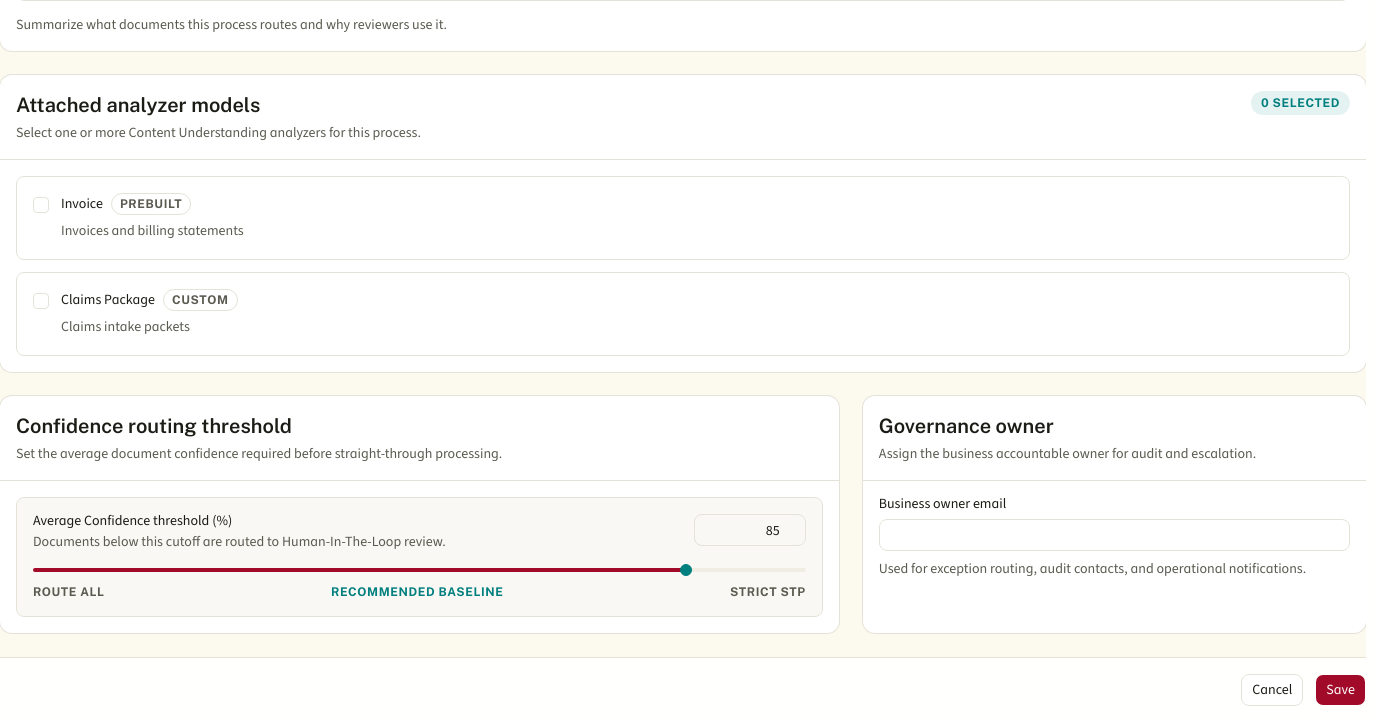
Test: ProcessForm › validates threshold bounds
(page scrolled)
Check: the text "Invoice" is shown, box [61,194,103,214]
Replace the text in the number field labelled "Average Confidence threshold (%)" with "101" at (750, 530), box [694,514,806,546]
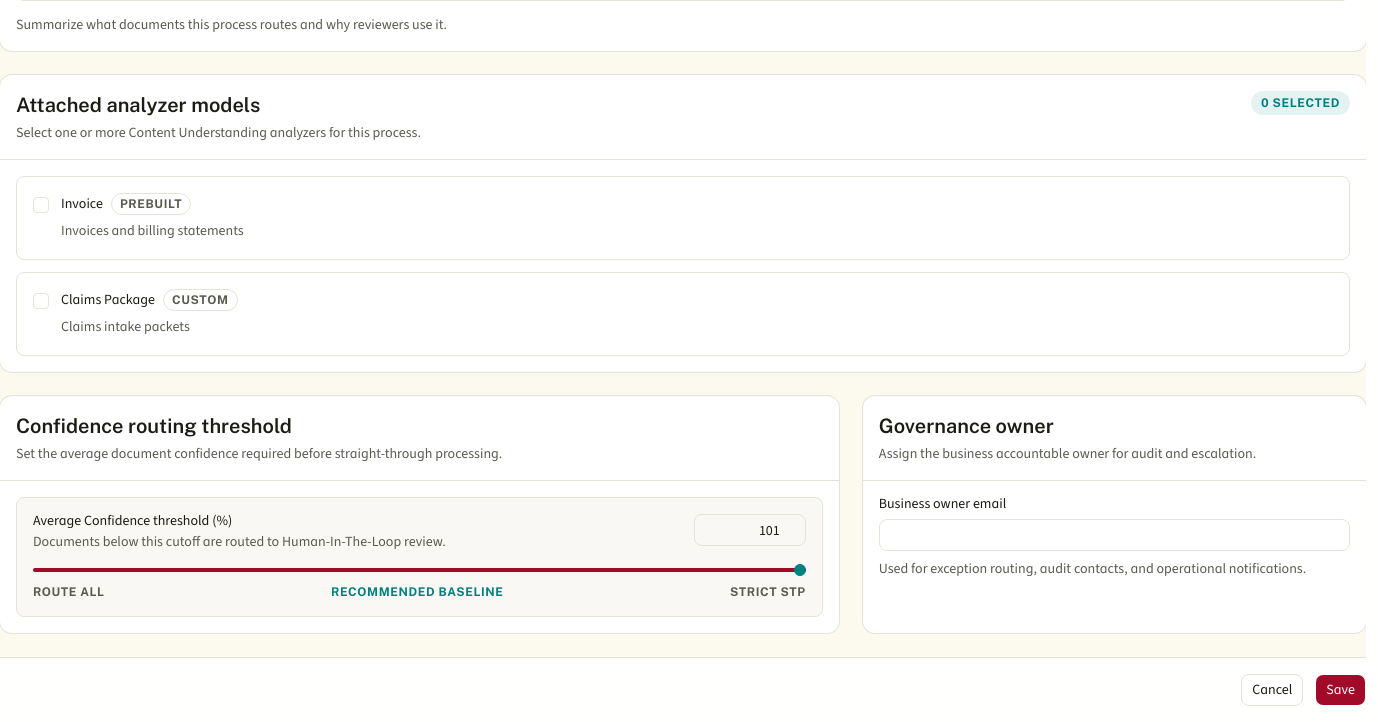
Click the button "Save" at (1341, 690), box [1315,674,1366,706]
(page scrolled)
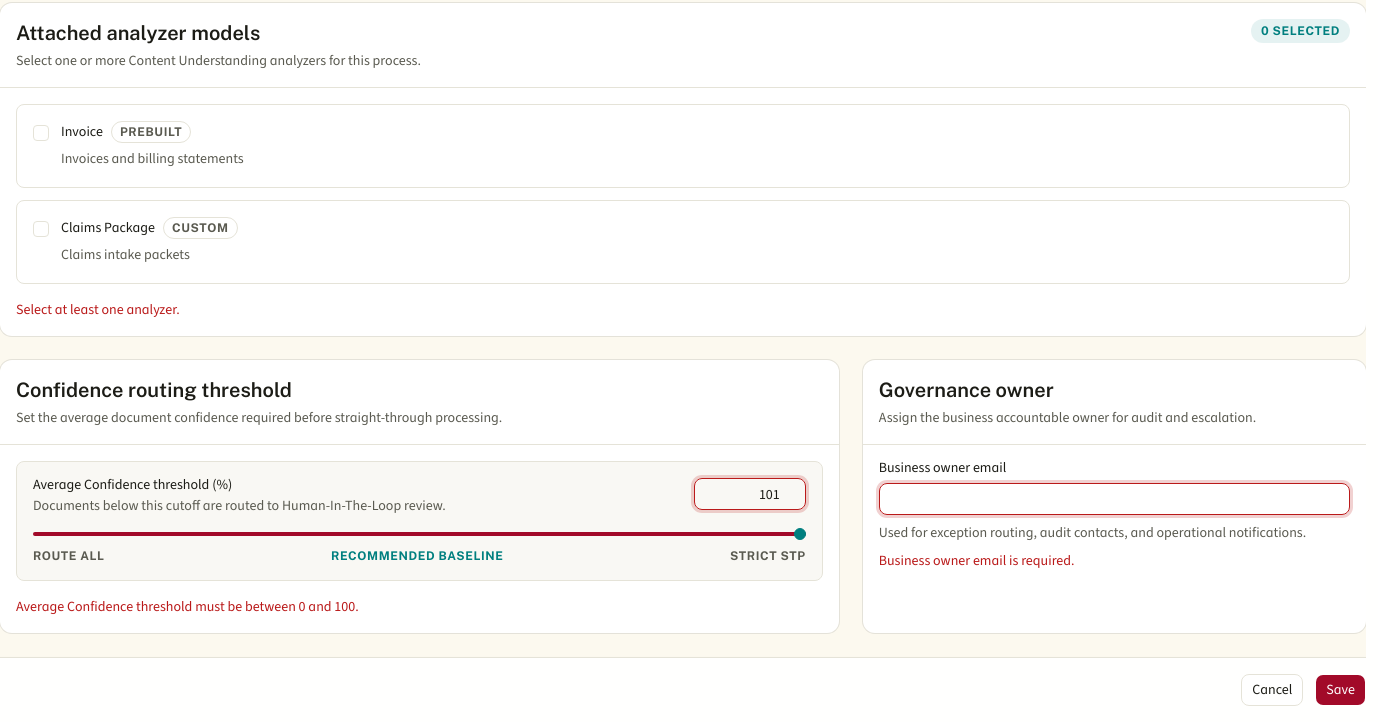
Check: the text "Average Confidence threshold must be between 0 and 100." is shown, box [16,597,359,616]
